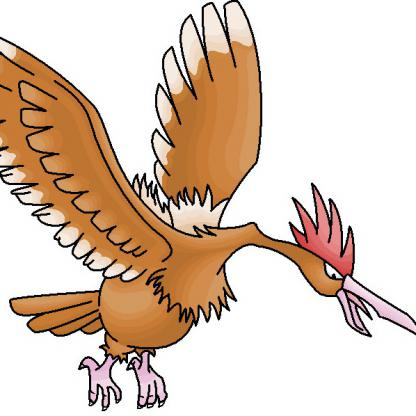Fearow: (1, 1, 416, 416)
